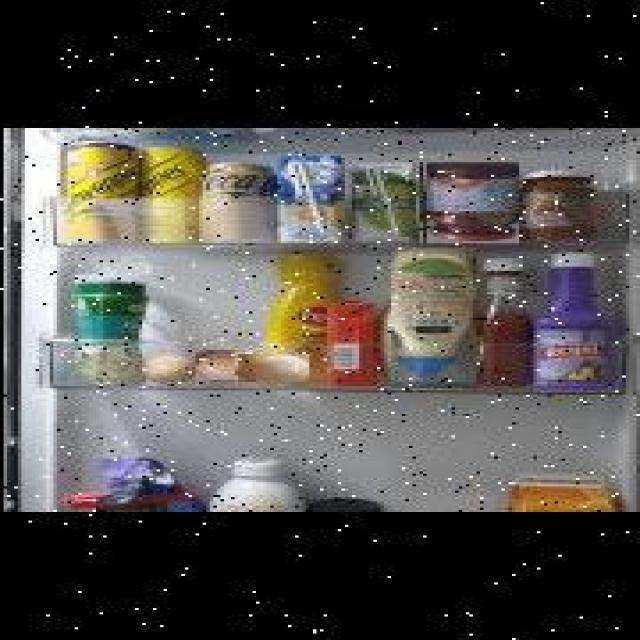egg: (234, 354, 306, 382), (138, 352, 196, 386), (192, 351, 249, 381)
marmelade: (420, 162, 516, 243)
mayonaise: (387, 248, 473, 389)
tomato_sauce: (325, 298, 386, 392)
